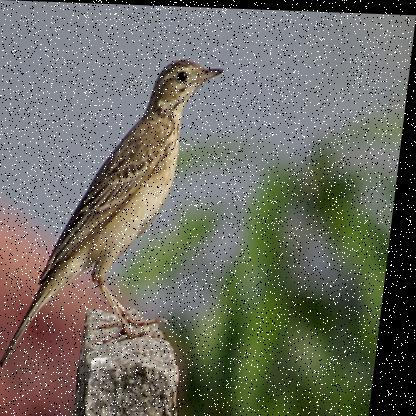Burung: (4, 53, 225, 376)
